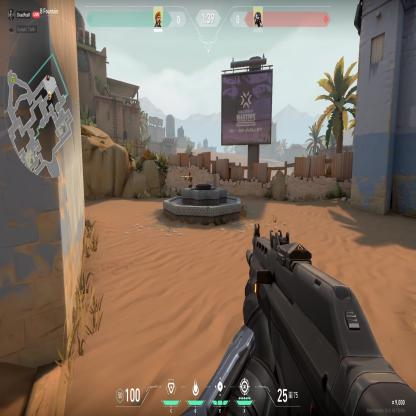enemy: (184, 171, 194, 189)
